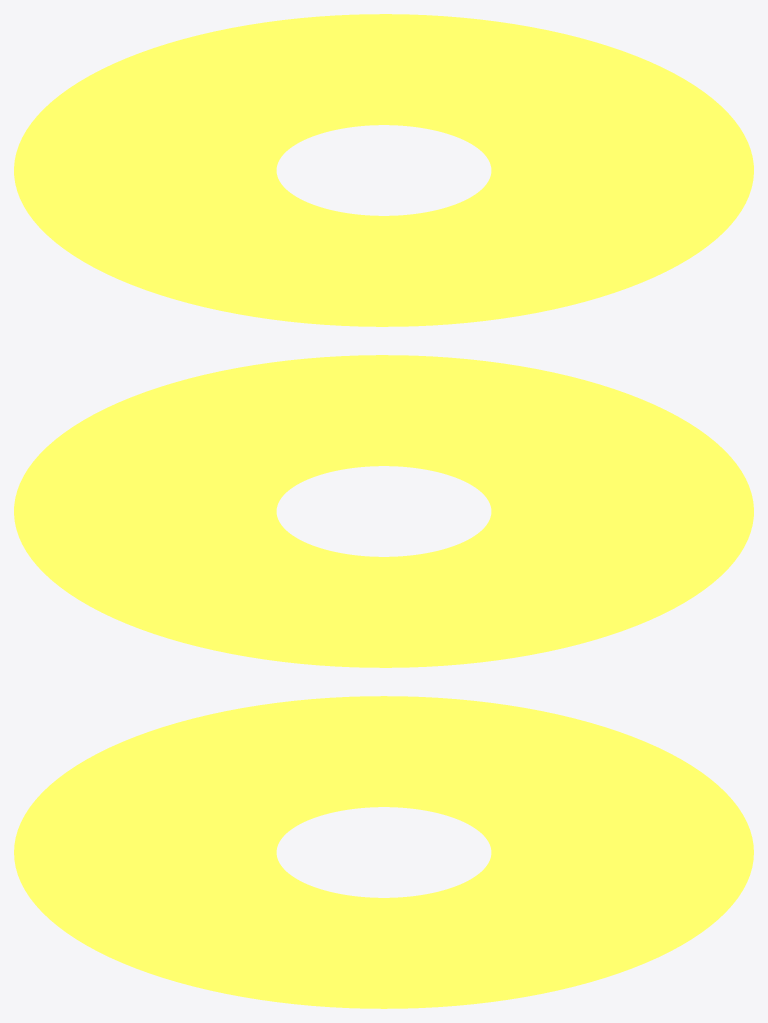
Rendered from mwm_lakeflow_a.glb.
3 renders of one model, top to bottom at view 1: azimuth 30°, elevation 25°; view 2: azimuth 150°, elevation 25°; view 3: azimuth 270°, elevation 25°, orthographic.
Bounding box in the file's own units: 744 × 0 × 744.
1 material, 1 textured.
